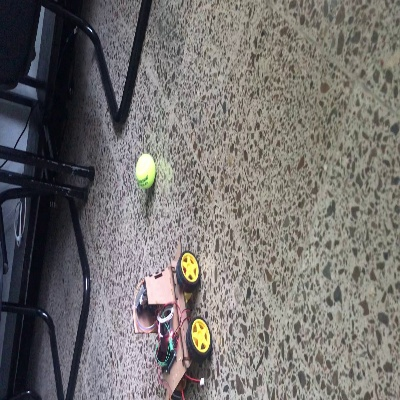Ball: (134, 155, 155, 189)
Robot: (132, 241, 212, 397)
